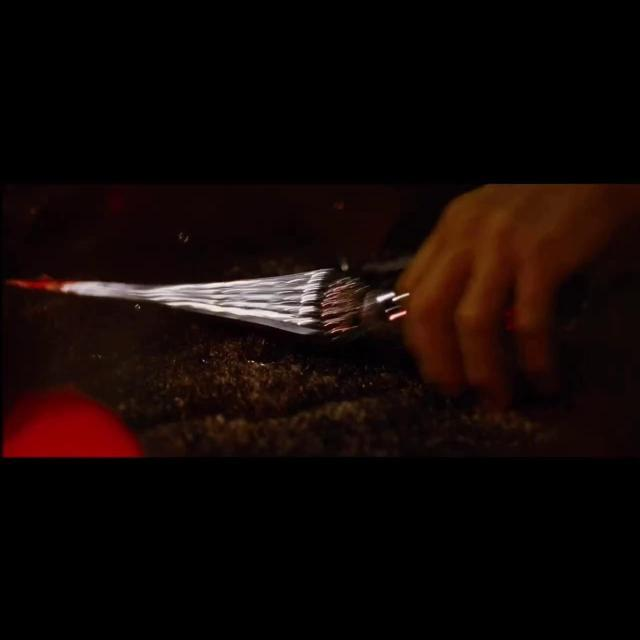blood: (4, 274, 94, 297)
